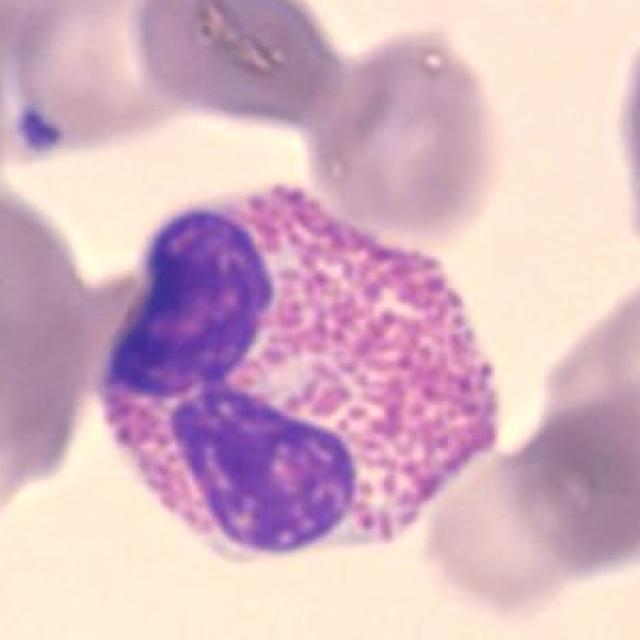WBC: (77, 177, 514, 561)
